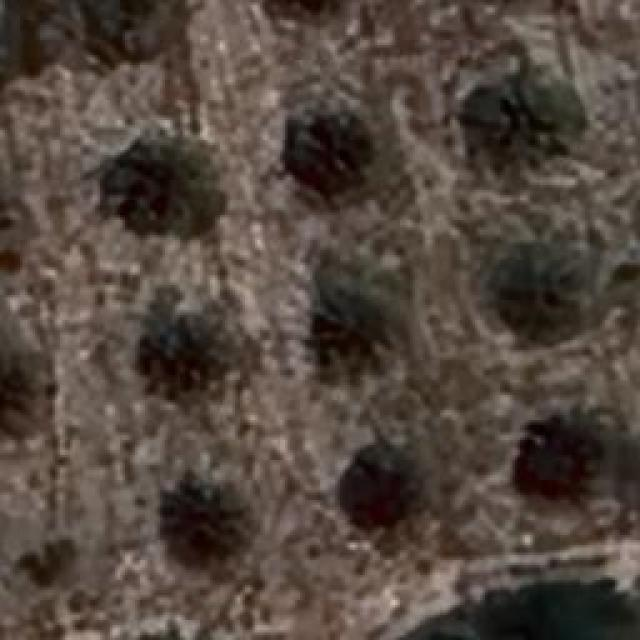PalmTree: (126, 135, 232, 240), (130, 296, 242, 394), (88, 10, 304, 60), (310, 270, 410, 375), (161, 474, 249, 582), (458, 76, 560, 162), (4, 536, 94, 616), (294, 100, 382, 178), (520, 416, 598, 502), (490, 255, 578, 325), (359, 445, 429, 525), (0, 362, 50, 436), (259, 0, 348, 15), (391, 630, 492, 640), (260, 0, 348, 10)
